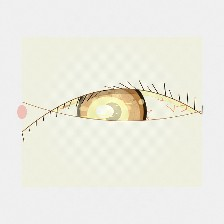corneal_ulcer: (74, 87, 142, 141)
